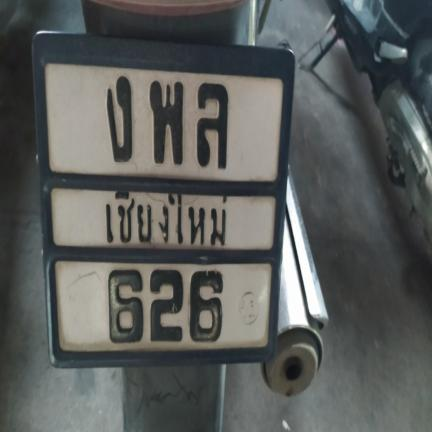2: (149, 263, 186, 344)
6: (102, 261, 144, 345), (189, 268, 225, 343)
A07: (101, 70, 136, 165)
A31: (143, 75, 185, 170)
A36: (191, 76, 228, 173)
CMI: (96, 184, 232, 254)
